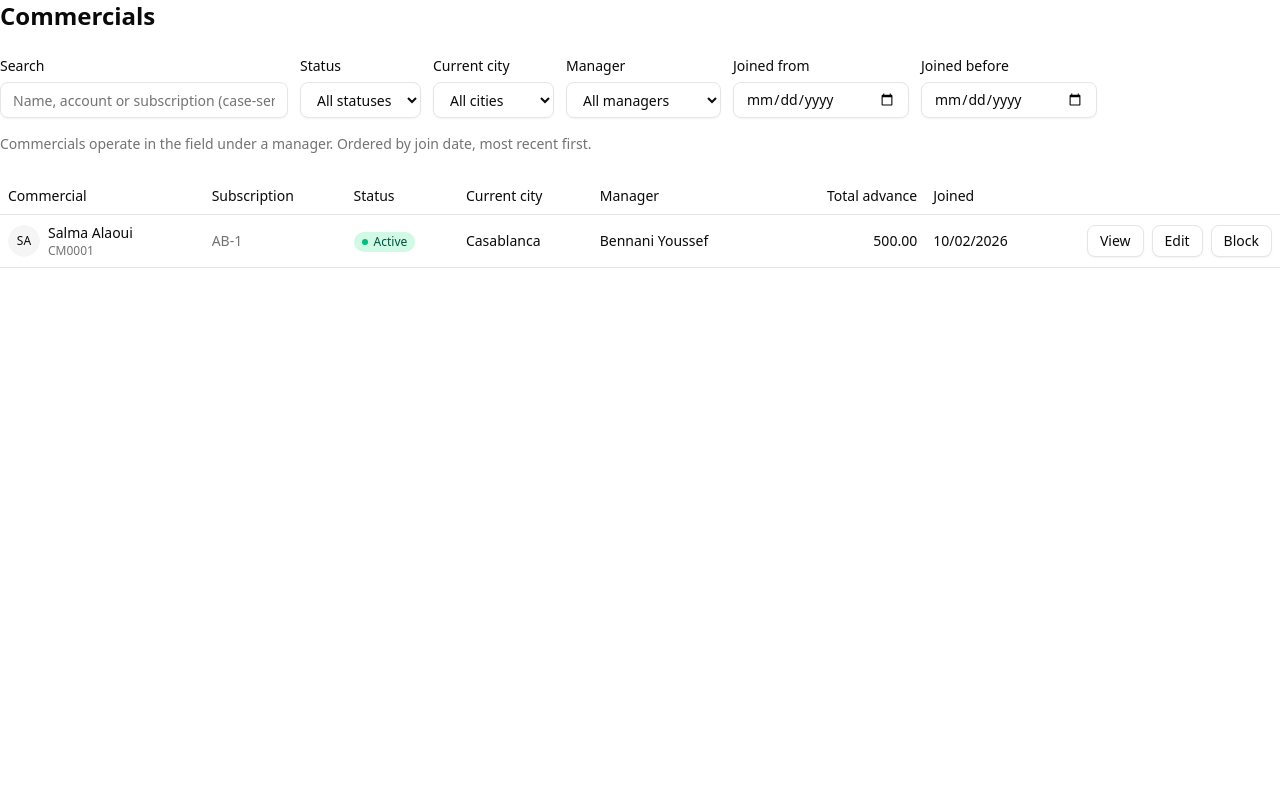
Test: edit › seeds the drawer from the row
What coordinates should you click on to do the following:
click the button with aria-label "edit salma alaoui"
I would click on:
 (1177, 241)
Its box is [1152,225,1203,257].
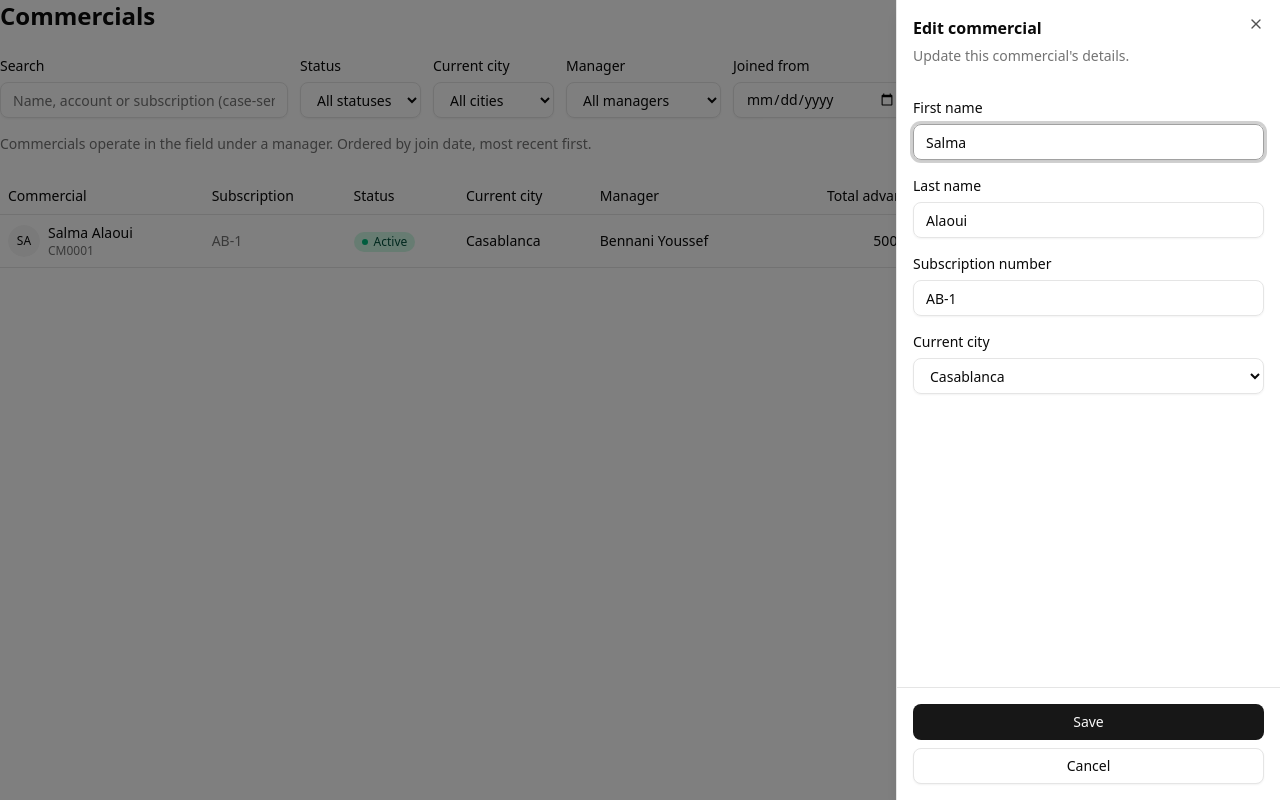
Now the field labelled "First name" holds "Salma", box [913,124,1264,160]
Now the field labelled "Last name" holds "Alaoui", box [913,202,1264,238]
Now the dropdown labelled "Current city" shows "Casablanca", box [913,358,1264,394]
